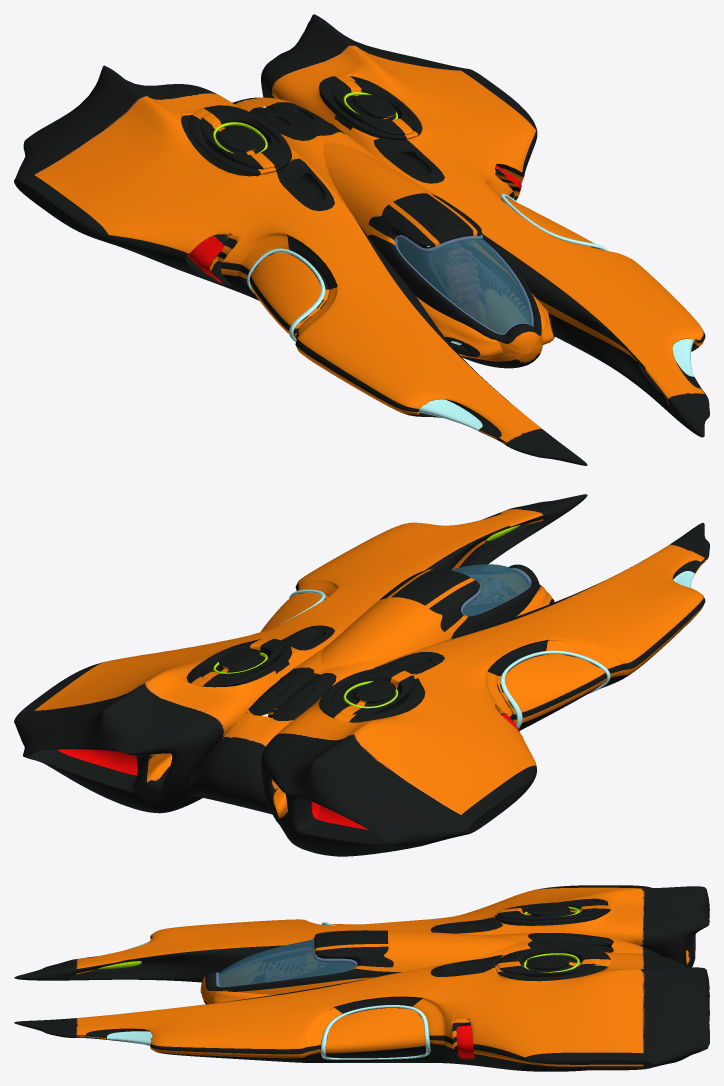
File: wraith-raider.glb
3 views of the same model, one above another, from view 1: azimuth 30°, elevation 25°; view 2: azimuth 150°, elevation 25°; view 3: azimuth 270°, elevation 25° (orthographic). The views are drawn at different scales.
Parts seen in each view (by area): view 1: wraith raider2, windshield_usemtl_1, cockpit2_usemtl_4, lights.2_mesh01_1, cushion_usemtl_1, windshield_usemtl_2, red_mesh01_1, door_usemtl_1; view 2: wraith raider2, windshield_usemtl_1, red_mesh01_1, lights.2_mesh01_1, cockpit2_usemtl_4; view 3: wraith raider2, windshield_usemtl_1, lights.2_mesh01_1, cockpit2_usemtl_4, windshield_usemtl_2, red_mesh01_1, door_usemtl_1, green__1.
Boxes of the visible parts, x1,y1,x2,y2 form: wraith raider2: (14,14,709,465); windshield_usemtl_1: (397,239,531,333); cockpit2_usemtl_4: (428,241,529,332); lights.2_mesh01_1: (247,193,694,430); cushion_usemtl_1: (446,250,486,317); windshield_usemtl_2: (394,234,533,334); red_mesh01_1: (187,165,521,282); door_usemtl_1: (415,205,464,233); wraith raider2: (14,494,709,856); windshield_usemtl_1: (449,564,529,616); red_mesh01_1: (57,713,520,829); lights.2_mesh01_1: (279,571,694,728); cockpit2_usemtl_4: (470,574,527,603); wraith raider2: (14,885,709,1071); windshield_usemtl_1: (218,939,354,986); lights.2_mesh01_1: (107,922,430,1059); cockpit2_usemtl_4: (219,955,329,985); windshield_usemtl_2: (215,937,357,987); red_mesh01_1: (456,1025,474,1058); door_usemtl_1: (321,931,360,943); green__1: (523,906,579,972).
Bounding box in the file's own units: 325 × 93.56 × 547.
Materials: 19 (9 with a texture image).
